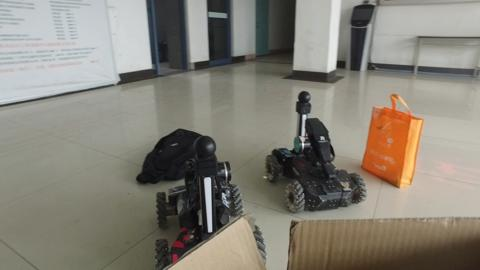bag: (365, 94, 426, 189)
chariot: (260, 93, 368, 213), (155, 140, 231, 267)
